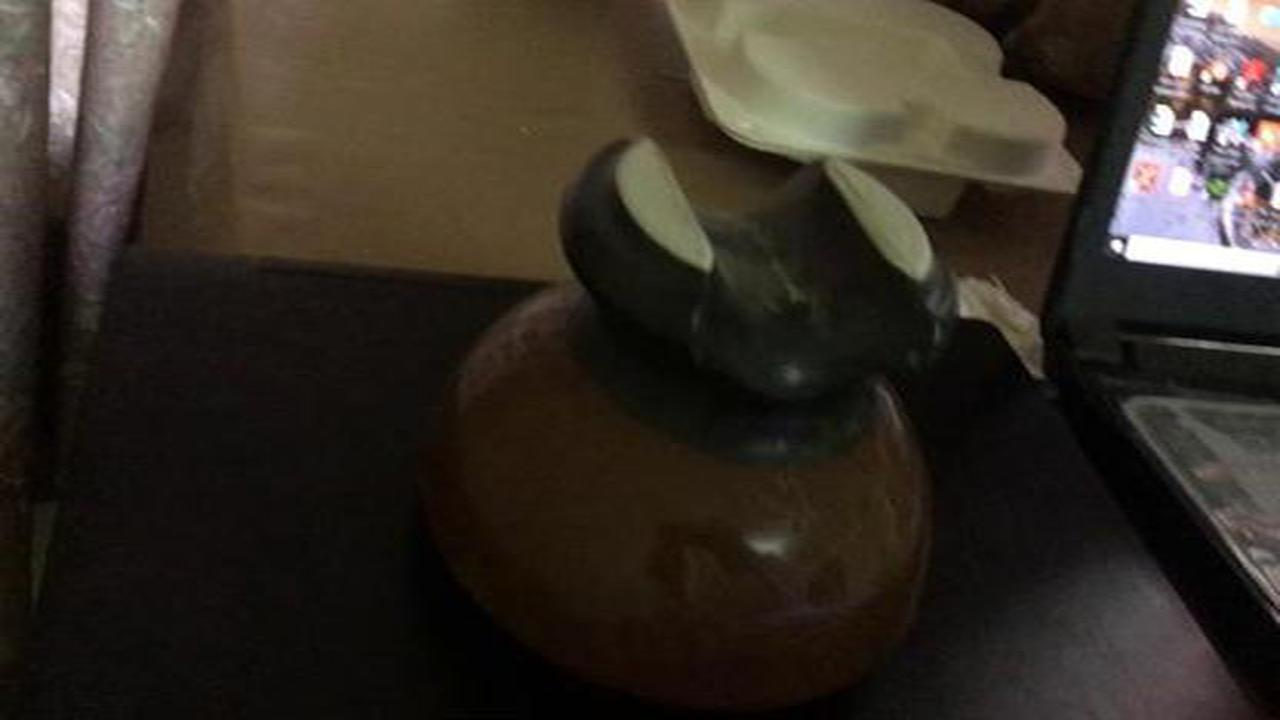insulator_pin: (401, 114, 997, 705)
